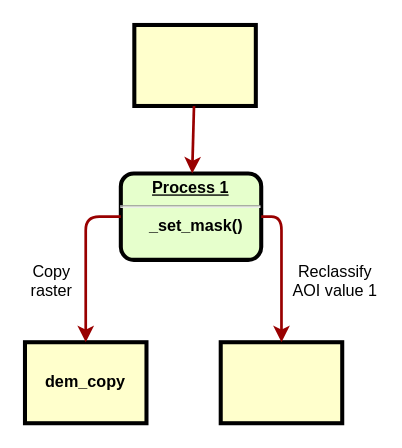
Image size: 402x448. Some labels were removed from this diagram. The shapes that lost their labels are listed below. From the top down, each one's box as (x1, y1, x2, y2) in pixels, then its label:
(132, 22, 257, 107): elevation
(218, 340, 344, 425): dem_mask
